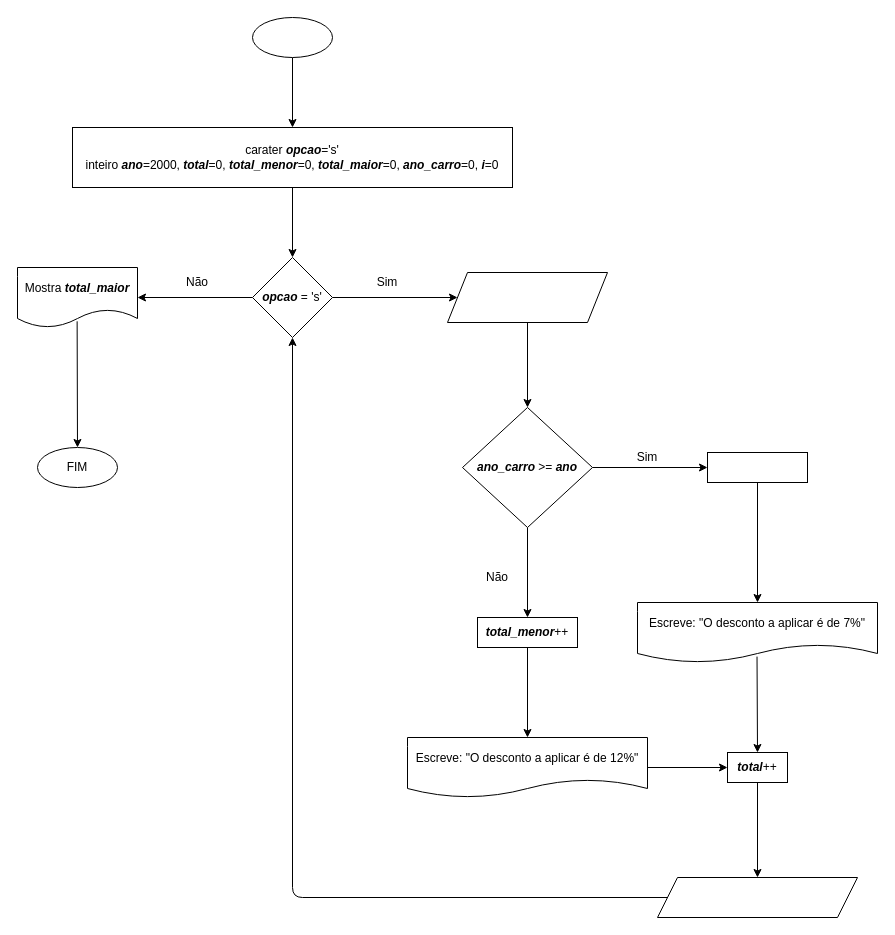
The diagram is 895 pixels wide and 935 high, and some of its shapes have lost their labels. The shapes that lost their labels are listed below. From the top down, each one's box as (x1, y1, x2, y2) in pixels, then its label:
(252, 16, 332, 58): INÍCIO
(446, 272, 608, 322): Ler valor para variável ano_carro
(706, 452, 808, 482): total_maior ++
(656, 876, 858, 918): Ler valor para variável opcao
